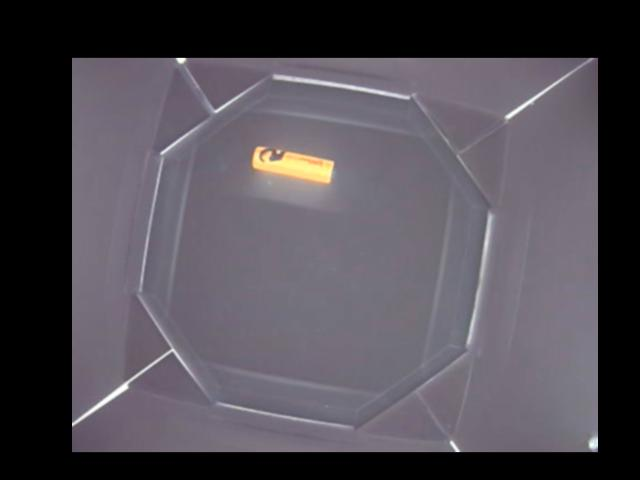Battery: (250, 144, 334, 182)
